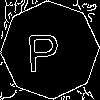P: (25, 25, 61, 72)
